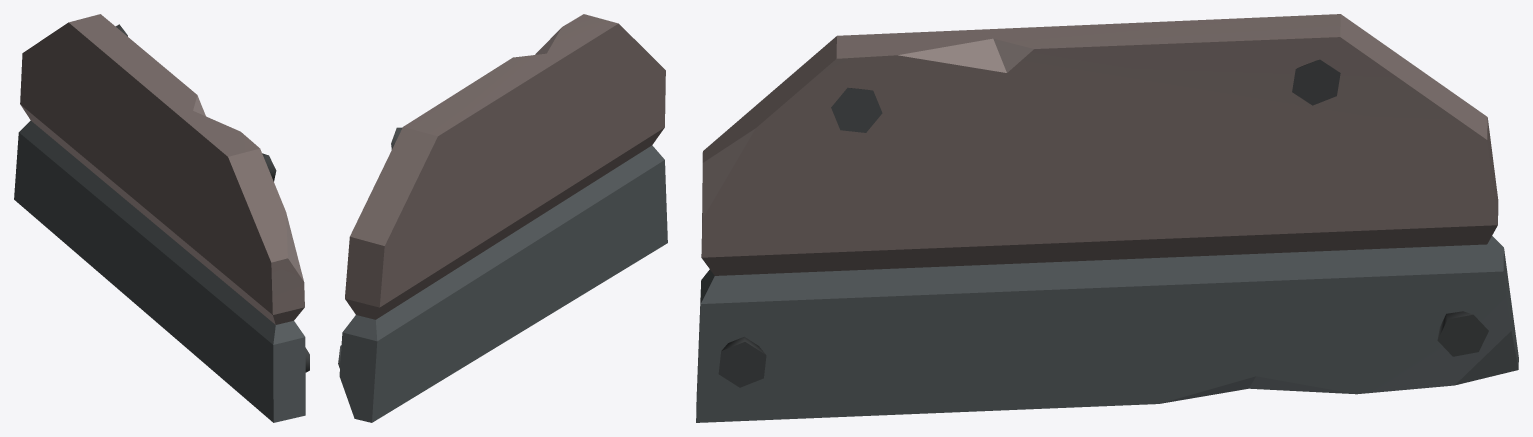
File: Apocalypse_Car_01_Armor_03.fbx
3 views of the same model, side by side, from view 1: azimuth 30°, elevation 25°; view 2: azimuth 150°, elevation 25°; view 3: azimuth 270°, elevation 25° (orthographic). The views are drawn at different scales.
Parts seen in each view (by area): view 1: Apocalypse_Car_01_Armor_03; view 2: Apocalypse_Car_01_Armor_03; view 3: Apocalypse_Car_01_Armor_03.
Part boxes in pixels (left/top/right/bottom): Apocalypse_Car_01_Armor_03: left=14, top=14, right=309, bottom=422; Apocalypse_Car_01_Armor_03: left=338, top=14, right=667, bottom=422; Apocalypse_Car_01_Armor_03: left=696, top=14, right=1518, bottom=422.
Size of the model in its own units: 10.94 by 98.78 by 51.34.
